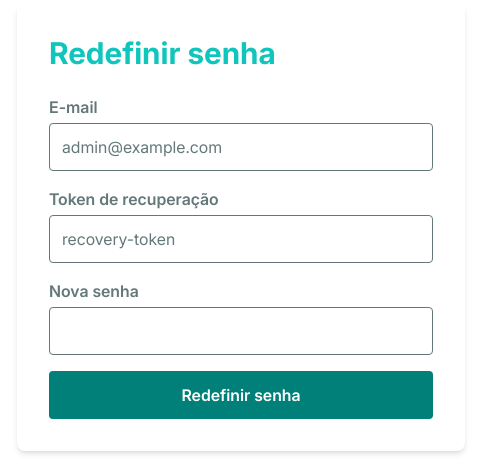
Test: account recovery journeys › resets a password from an email link
Type "OutraSenhaSegura1!" into the password field labelled "Nova senha" at (241, 331), box [49,307,433,355]
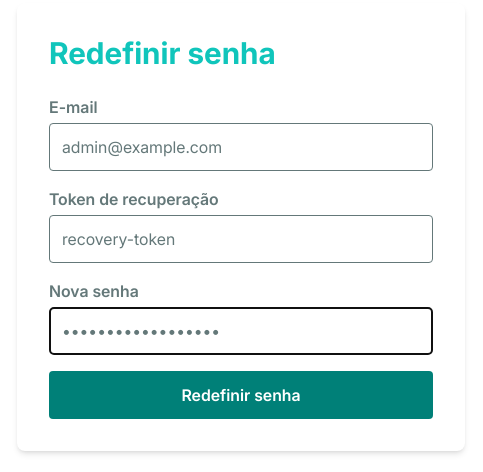
Click the button "Redefinir senha" at (241, 395), box [49,371,433,419]
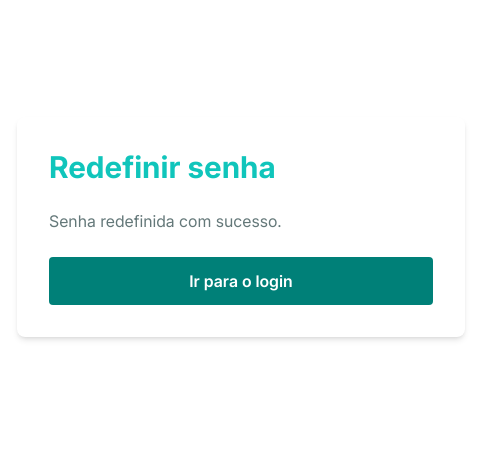
Expected: the text "Senha redefinida com sucesso." is shown, [49,211,282,231]
